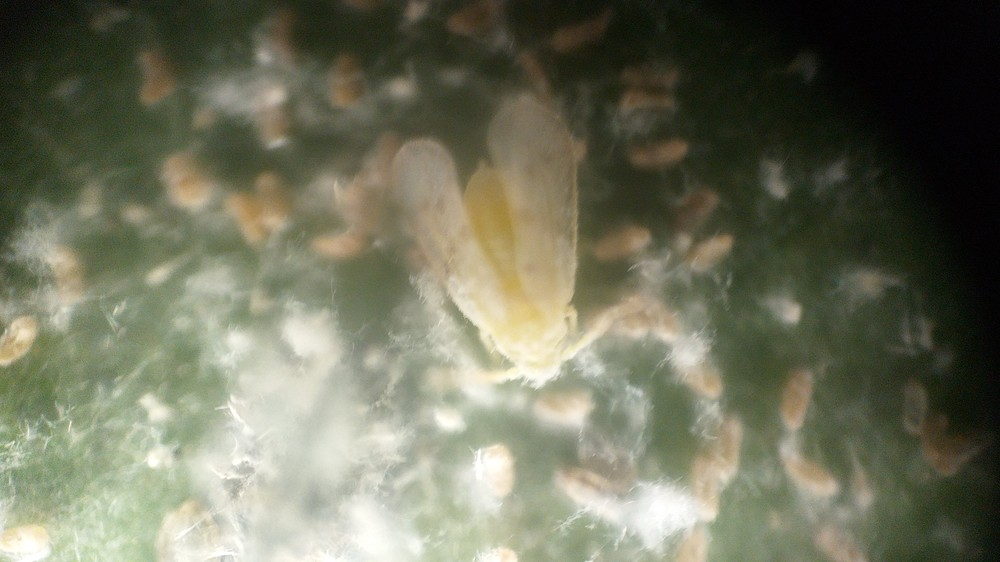Mosca Blanca: (366, 102, 658, 408)
